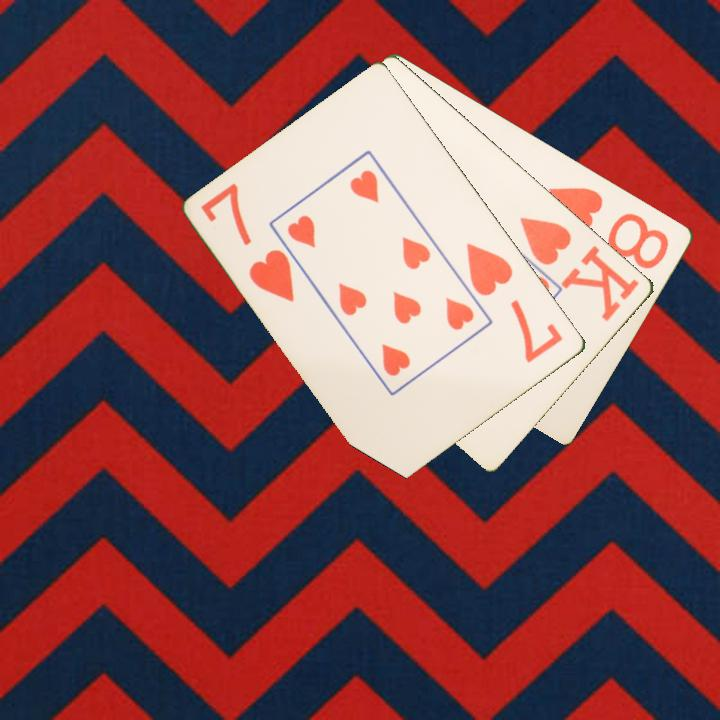7h: (463, 239, 567, 366), (197, 180, 298, 305)
8h: (545, 183, 673, 272)
Kh: (516, 213, 643, 325)
